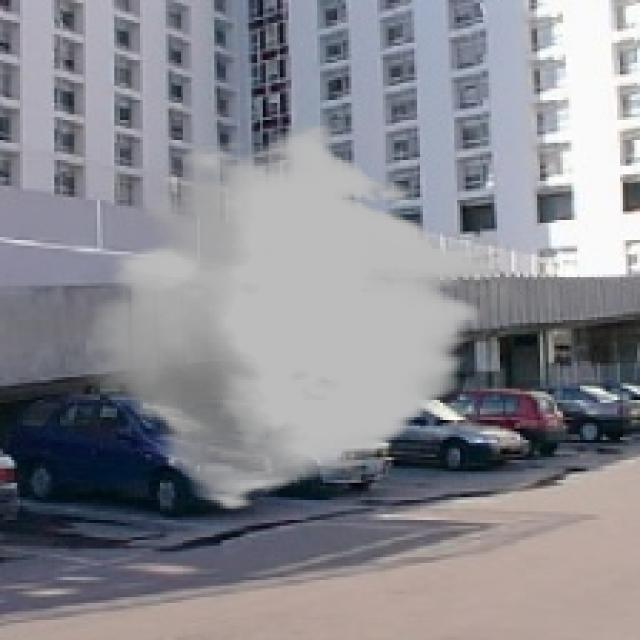smoke: (86, 123, 497, 511)
